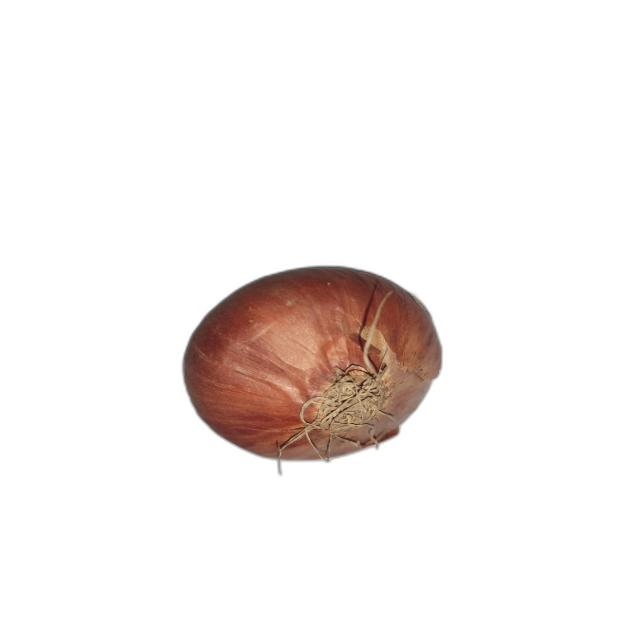onion: (181, 266, 444, 474)
